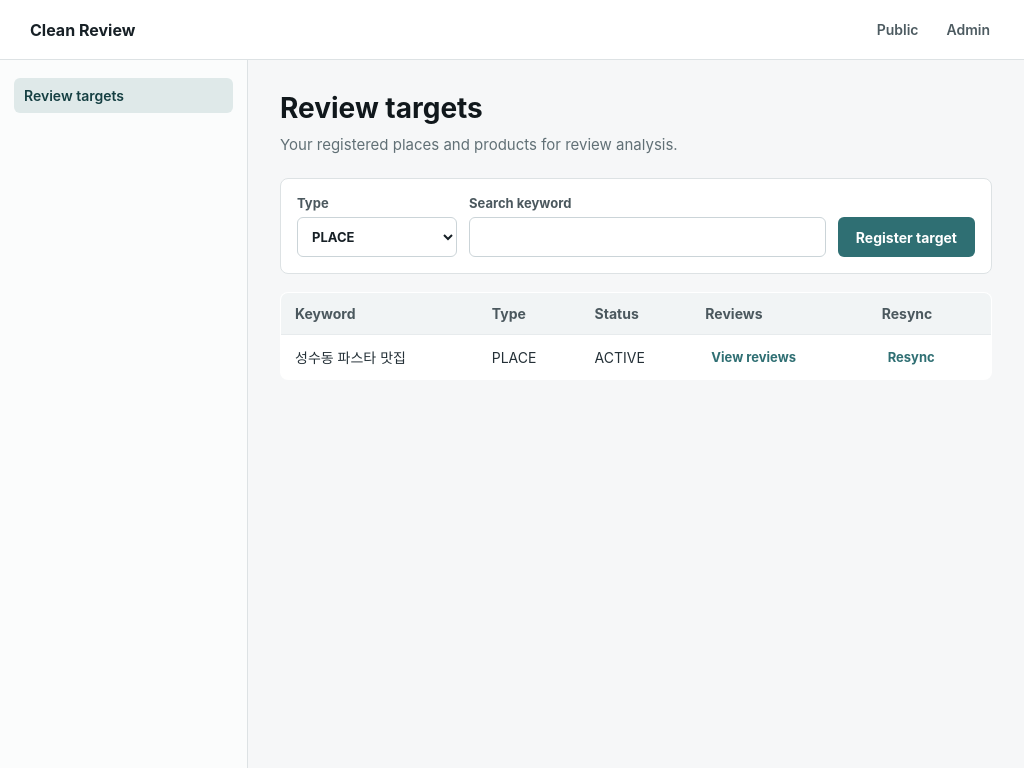
App route shells › requests manual resync for a review target
Click the button with aria-label "Resync 성수동 파스타 맛집". click: (911, 357)
box: 882,348 -> 941,366
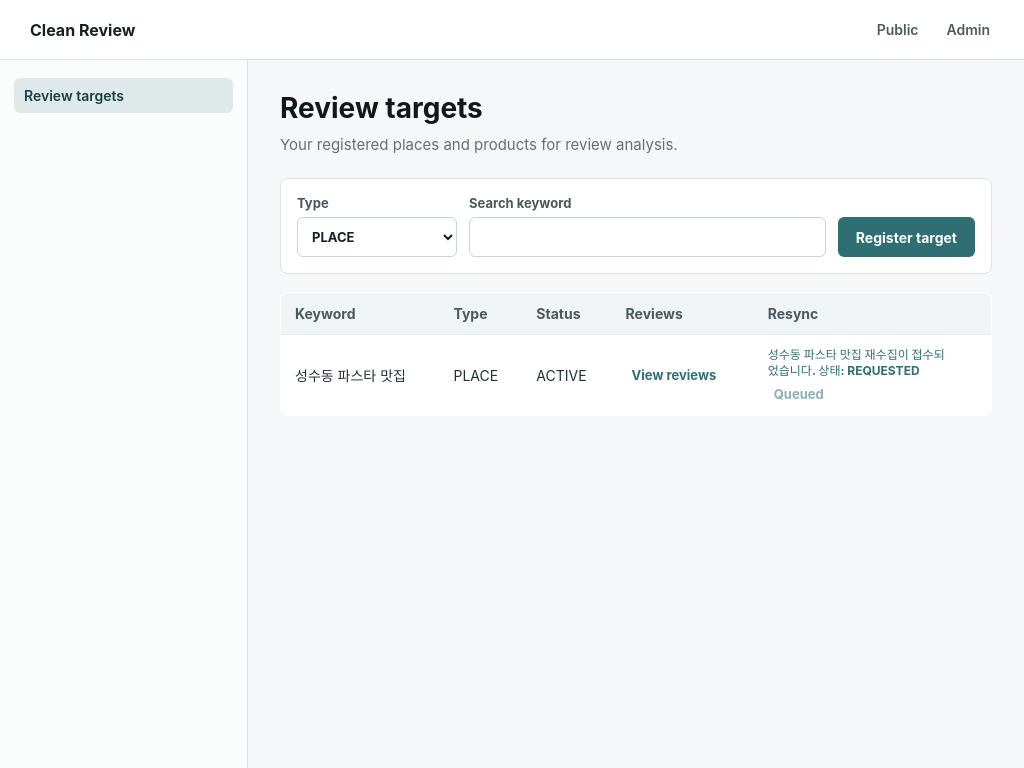
Expected: the text "성수동 파스타 맛집 재수집이 접수되었습니다. 상태: REQUESTED" is shown, 768,347 -> 948,380
Expected: the button with aria-label "Resync 성수동 파스타 맛집" reads "Queued", 768,386 -> 830,404
